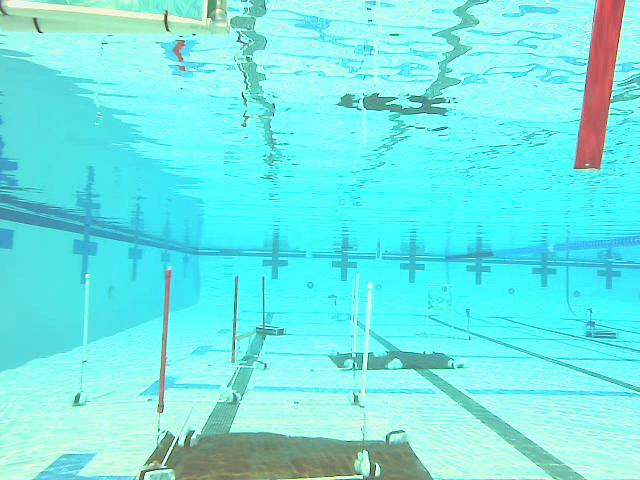black_poster: (157, 271, 173, 413), (229, 275, 239, 364)
white_poster: (77, 274, 92, 393), (361, 282, 374, 398)
